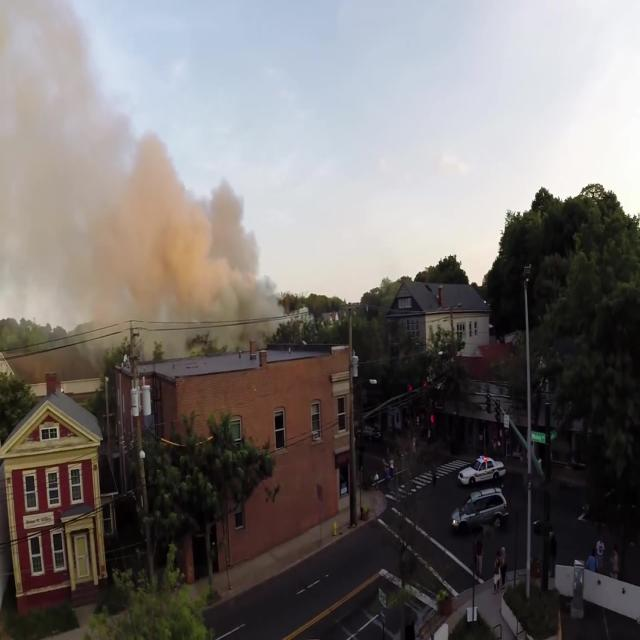Smoke: (1, 0, 287, 357)
